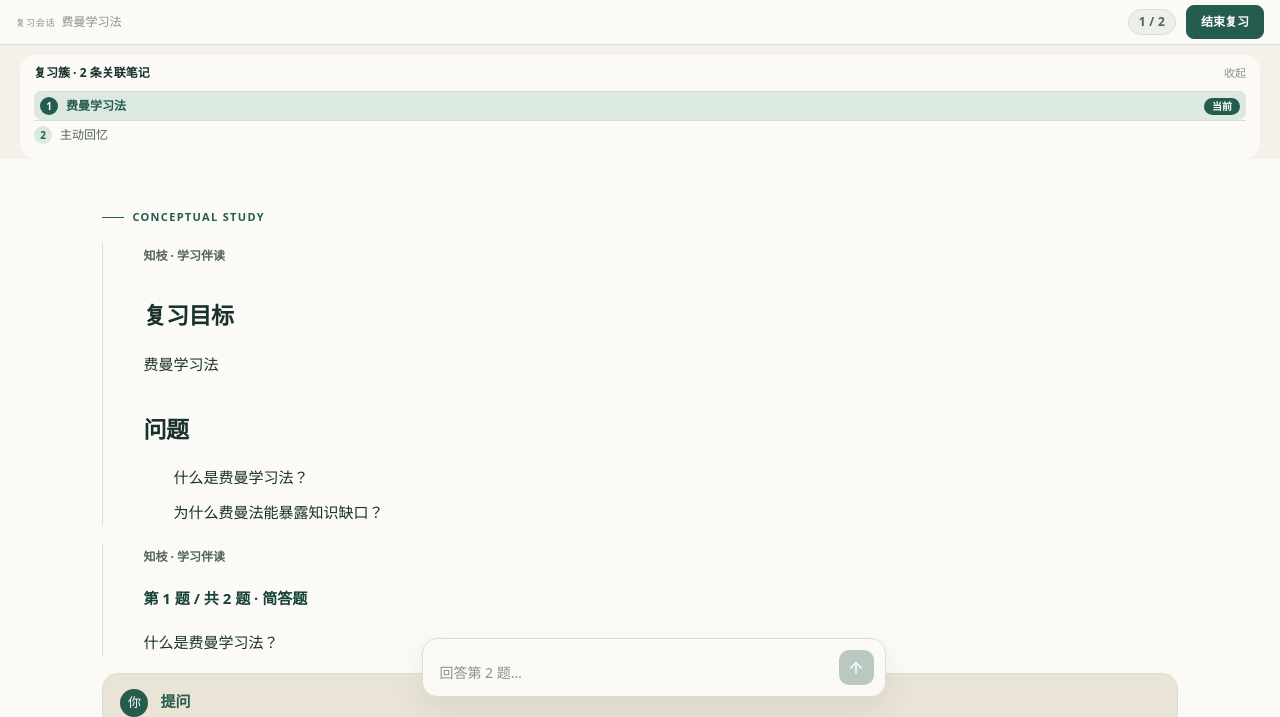
Test: ReviewChatPage › 簇模式：AI 反馈后解析缺口笔记，评级面板标记 AI 缺口
The width and height of the screenshot is (1280, 717).
Click the button with class "review-chat-page__end".
click(1225, 22)  # box [1186, 5, 1264, 39]
(page scrolled)
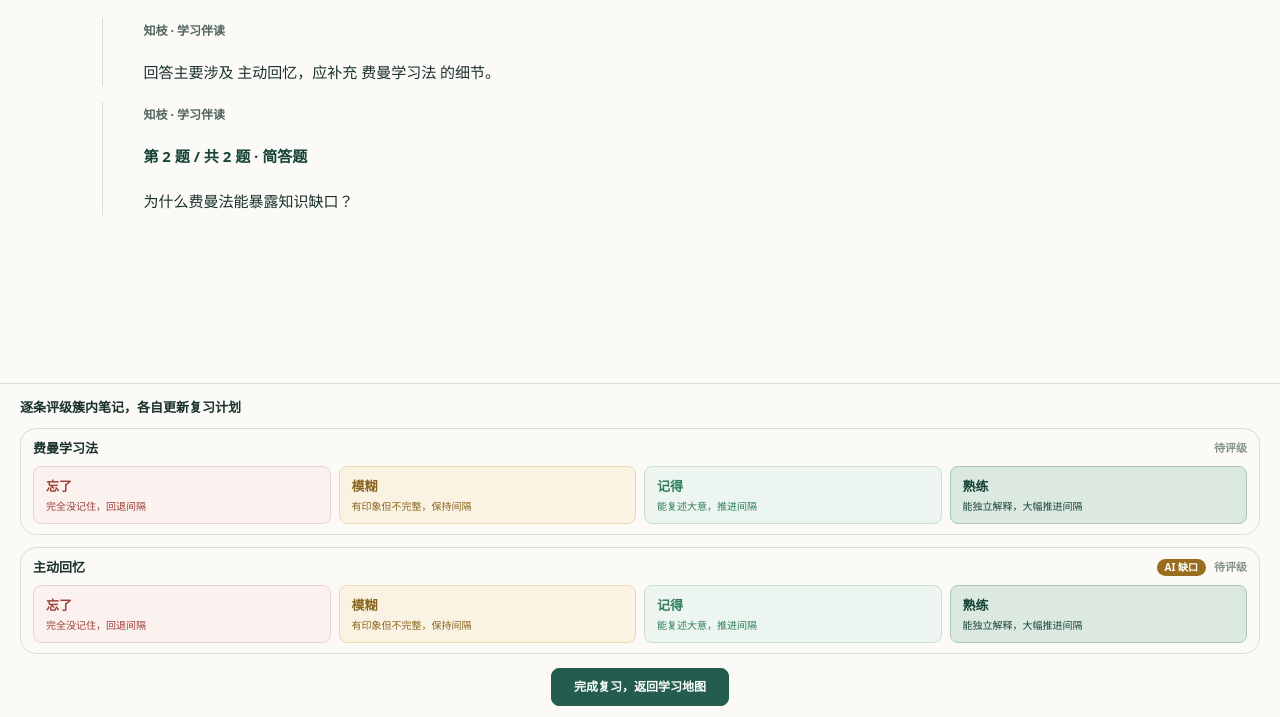
Expected: the number of elements with class "review-chat-page__gap-badge" is 1, [1157, 559, 1206, 576]
Expected: the text with class "review-chat-page__gap-badge" reads "AI 缺口", [1165, 560, 1198, 574]
